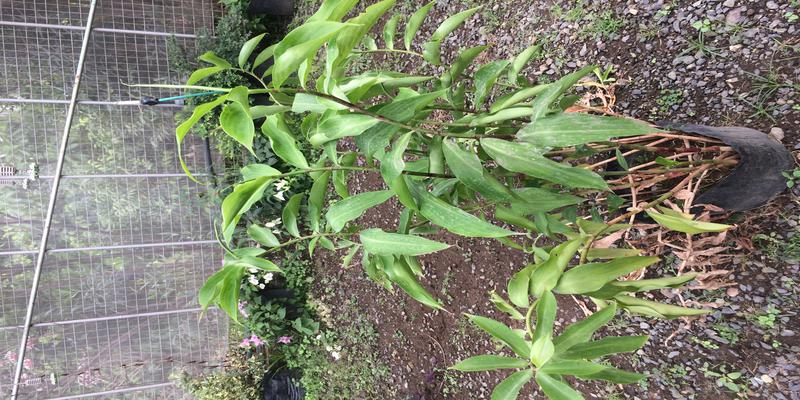Insulin: (220, 61, 688, 290)
